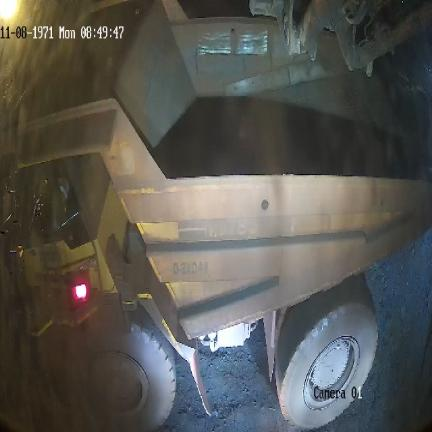pile: (371, 234, 430, 431)
